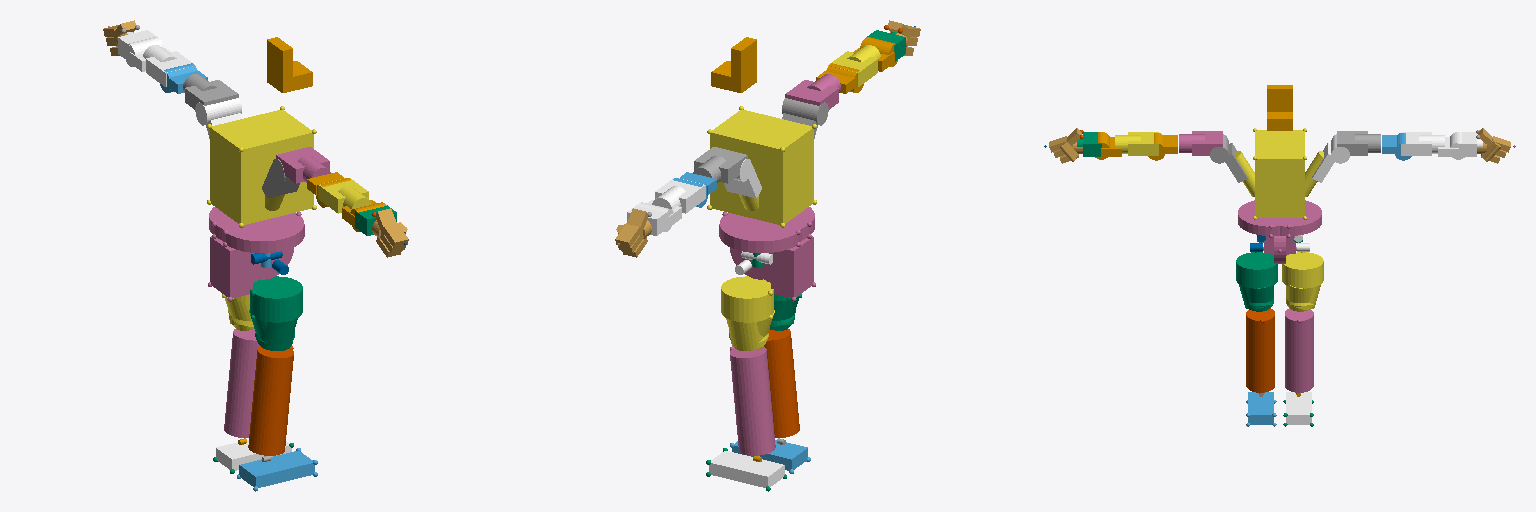
--- What the picture shows (computed from the rendered views, not written in the file) ---
3 views of the same robot in one strip: view 1: azimuth 30°, elevation 25°; view 2: azimuth 150°, elevation 25°; view 3: azimuth 270°, elevation 25° (orthographic).
Robot: atlas — 33 links, 32 joints (28 revolute, 4 fixed); root link pelvis; default pose: all joints at 0.
Links seen in each view (by area): view 1: utorso, pelvis, r_lleg, r_uleg, l_lleg, r_foot, head, r_scap, l_scap, r_larm, right_palm, l_larm (+6 smaller); view 2: utorso, pelvis, l_lleg, l_uleg, r_lleg, l_foot, head, l_scap, r_scap, l_larm, left_palm, r_larm (+6 smaller); view 3: utorso, pelvis, l_lleg, r_lleg, l_uleg, r_uleg, head, l_scap, r_scap, l_larm, r_larm, l_foot (+5 smaller).
Link boxes in pixels (x1,y1,x2,y2): utorso: [207, 106, 316, 227]; pelvis: [208, 207, 304, 301]; r_lleg: [248, 346, 293, 455]; r_uleg: [249, 276, 302, 350]; l_lleg: [224, 329, 259, 437]; r_foot: [237, 448, 317, 491]; head: [267, 37, 312, 92]; r_scap: [276, 147, 330, 183]; l_scap: [183, 74, 238, 109]; r_larm: [318, 178, 371, 213]; right_palm: [372, 208, 408, 257]; l_larm: [143, 45, 195, 86]; utorso: [707, 106, 816, 227]; pelvis: [719, 207, 815, 301]; l_lleg: [730, 346, 775, 455]; l_uleg: [721, 276, 774, 350]; r_lleg: [764, 329, 799, 437]; l_foot: [706, 448, 786, 491]; head: [711, 37, 756, 92]; l_scap: [693, 147, 747, 183]; r_scap: [785, 74, 840, 109]; l_larm: [652, 178, 705, 213]; left_palm: [615, 208, 651, 257]; r_larm: [828, 45, 880, 86]; utorso: [1236, 128, 1323, 219]; pelvis: [1238, 200, 1321, 263]; l_lleg: [1285, 308, 1313, 392]; r_lleg: [1246, 308, 1274, 392]; l_uleg: [1282, 252, 1323, 311]; r_uleg: [1236, 252, 1277, 311]; head: [1267, 85, 1292, 130]; l_scap: [1337, 131, 1380, 155]; r_scap: [1179, 131, 1222, 155]; l_larm: [1401, 132, 1444, 155]; r_larm: [1115, 132, 1158, 155]; l_foot: [1283, 392, 1313, 426].
Bounding box of the posed robot: 0.3795 × 2.26 × 1.76 m (x, y, z).
Geometry: primitives only (box / cylinder / sphere), no mesh files.

URDF robot description (atlas):
<?xml version="1.0" ?>
<!-- =================================================================================== -->
<!-- |    This document was autogenerated by xacro from atlas_simple_visuals.urdf.xacro | -->
<!-- |    EDITING THIS FILE BY HAND IS NOT RECOMMENDED                                 | -->
<!-- =================================================================================== -->
<robot name="atlas" xmlns:xacro="http://www.ros.org/wiki/xacro">
  <link name="l_clav">
    <inertial>
      <mass value="2.369"/>
      <origin rpy="0 -0 0" xyz="0.014 0.058 0.029"/>
      <inertia ixx="0.004" ixy="0.001" ixz="0" iyy="0.006" iyz="0" izz="0.007"/>
    </inertial>
    <collision group="default">
      <origin rpy="0 1.5707963267949 0" xyz="0 0.0697 0.0261"/>
      <geometry>
        <cylinder length="0.1525" radius="0.045"/>
      </geometry>
    </collision>
    <visual>
      <origin rpy="0 1.5707963267949 0" xyz="0 0.0697 0.0261"/>
      <geometry>
        <cylinder length="0.1525" radius="0.045"/>
      </geometry>
      <material name="vis">
        <color rgba="1 1 1 1"/>
      </material>
    </visual>
    <collision group="default">
      <origin rpy="1.0472 0 0" xyz="-0.005 -0.0074 -0.0538"/>
      <geometry>
        <box size="0.13 0.15 0.05"/>
      </geometry>
    </collision>
    <visual>
      <origin rpy="1.0472 0 0" xyz="-0.005 -0.0074 -0.0538"/>
      <geometry>
        <box size="0.13 0.15 0.05"/>
      </geometry>
      <material name="vis">
        <color rgba="1 1 1 1"/>
      </material>
    </visual>
  </link>
  <link name="l_farm">
    <inertial>
      <mass value="0.981"/>
      <origin rpy="0 -0 0" xyz="0 0.041 0"/>
      <inertia ixx="0.003" ixy="0" ixz="0" iyy="0.001" iyz="0" izz="0.003"/>
    </inertial>
    <collision group="default">
      <origin rpy="0 1.5708 0" xyz="0.0 0.065 0.004"/>
      <geometry>
        <cylinder length="0.125" radius="0.045"/>
      </geometry>
    </collision>
    <visual>
      <origin rpy="0 1.5708 0" xyz="0.0 0.065 0.004"/>
      <geometry>
        <cylinder length="0.125" radius="0.045"/>
      </geometry>
      <material name="vis">
        <color rgba="1 1 1 1"/>
      </material>
    </visual>
    <collision group="default">
      <origin rpy="0 0 0" xyz="0.001 0.015 -0.002"/>
      <geometry>
        <box size="0.135 0.1 0.045"/>
      </geometry>
    </collision>
    <visual>
      <origin rpy="0 0 0" xyz="0.001 0.015 -0.002"/>
      <geometry>
        <box size="0.135 0.1 0.045"/>
      </geometry>
      <material name="vis">
        <color rgba="1 1 1 1"/>
      </material>
    </visual>
  </link>
  <link name="l_foot">
    <inertial>
      <mass value="0.867"/>
      <origin rpy="0 -0 0" xyz="0.027 0 -0.067"/>
      <inertia ixx="0.002" ixy="0" ixz="0" iyy="0.00350421" iyz="0" izz="0.00400651"/>
    </inertial>
    <collision group="heel">
      <origin rpy="0 0 0" xyz="-0.082 0.0624435 -0.081119"/>
      <geometry>
        <sphere radius="0"/>
      </geometry>
    </collision>
    <visual>
      <origin rpy="0 0 0" xyz="-0.082 0.0624435 -0.081119"/>
      <geometry>
        <sphere radius="0.01"/>
      </geometry>
    </visual>
    <collision group="heel">
      <origin rpy="0 0 0" xyz="-0.082 -0.0624435 -0.081119"/>
      <geometry>
        <sphere radius="0"/>
      </geometry>
    </collision>
    <visual>
      <origin rpy="0 0 0" xyz="-0.082 -0.0624435 -0.081119"/>
      <geometry>
        <sphere radius="0.01"/>
      </geometry>
    </visual>
    <collision group="toe">
      <origin rpy="0 0 0" xyz="0.178 0.0624435 -0.081119"/>
      <geometry>
        <sphere radius="0"/>
      </geometry>
    </collision>
    <visual>
      <origin rpy="0 0 0" xyz="0.178 0.0624435 -0.081119"/>
      <geometry>
        <sphere radius="0.01"/>
      </geometry>
    </visual>
    <collision group="toe">
      <origin rpy="0 0 0" xyz="0.178 -0.0624435 -0.081119"/>
      <geometry>
        <sphere radius="0"/>
      </geometry>
    </collision>
    <visual>
      <origin rpy="0 0 0" xyz="0.178 -0.0624435 -0.081119"/>
      <geometry>
        <sphere radius="0.01"/>
      </geometry>
    </visual>
    <collision group="nail">
      <origin rpy="0 0 0" xyz="0.178 0.0624435 -0.081119"/>
      <geometry>
        <sphere radius="0"/>
      </geometry>
    </collision>
    <visual>
      <origin rpy="0 0 0" xyz="0.178 0.0624435 -0.081119"/>
      <geometry>
        <sphere radius="0.01"/>
      </geometry>
    </visual>
    <collision group="nail">
      <origin rpy="0 0 0" xyz="0.178 -0.0624435 -0.081119"/>
      <geometry>
        <sphere radius="0"/>
      </geometry>
    </collision>
    <visual>
      <origin rpy="0 0 0" xyz="0.178 -0.0624435 -0.081119"/>
      <geometry>
        <sphere radius="0.01"/>
      </geometry>
    </visual>
    <collision group="nail">
      <origin rpy="0 0 0" xyz="0.178 0.0624435 -0.031119"/>
      <geometry>
        <sphere radius="0"/>
      </geometry>
    </collision>
    <visual>
      <origin rpy="0 0 0" xyz="0.178 0.0624435 -0.031119"/>
      <geometry>
        <sphere radius="0.01"/>
      </geometry>
    </visual>
    <collision group="nail">
      <origin rpy="0 0 0" xyz="0.178 -0.0624435 -0.031119"/>
      <geometry>
        <sphere radius="0"/>
      </geometry>
    </collision>
    <visual>
      <origin rpy="0 0 0" xyz="0.178 -0.0624435 -0.031119"/>
      <geometry>
        <sphere radius="0.01"/>
      </geometry>
    </visual>
    <collision group="default">
      <origin rpy="0 0 0" xyz="0.048 0 -0.056119"/>
      <geometry>
        <box size="0.26 0.124887 0.05"/>
      </geometry>
    </collision>
    <visual>
      <origin rpy="0 0 0" xyz="0.048 0 -0.056119"/>
      <geometry>
        <box size="0.26 0.124887 0.05"/>
      </geometry>
      <material name="vis">
        <color rgba="1 1 1 1"/>
      </material>
    </visual>
  </link>
  <link name="l_hand">
    <inertial>
      <mass value="2.263"/>
      <origin rpy="0 -0 0" xyz="0 0.093 0"/>
      <inertia ixx="0.01" ixy="0" ixz="0" iyy="0.002" iyz="0" izz="0.01"/>
    </inertial>
    <collision group="default">
      <origin rpy="0 0 0" xyz="0.0 0.115 0.0"/>
      <geometry>
        <sphere radius="0"/>
      </geometry>
    </collision>
    <visual>
      <origin rpy="0 0 0" xyz="0.0 0.115 0.0"/>
      <geometry>
        <sphere radius="0.01"/>
      </geometry>
    </visual>
    <collision group="default">
      <origin rpy="1.5707963267949 0 0" xyz="0.001 0.1 0.01"/>
      <geometry>
        <cylinder length="0.05" radius="0.03"/>
      </geometry>
    </collision>
    <visual>
      <origin rpy="1.5707963267949 0 0" xyz="0.001 0.1 0.01"/>
      <geometry>
        <cylinder length="0.05" radius="0.03"/>
      </geometry>
      <material name="vis">
        <color rgba="1 1 1 1"/>
      </material>
    </visual>
    <collision group="default">
      <origin rpy="0 0 0" xyz="0.001 0.05 0.01"/>
      <geometry>
        <box size="0.13 0.09 0.07"/>
      </geometry>
    </collision>
    <visual>
      <origin rpy="0 0 0" xyz="0.001 0.05 0.01"/>
      <geometry>
        <box size="0.13 0.09 0.07"/>
      </geometry>
      <material name="vis">
        <color rgba="1 1 1 1"/>
      </material>
    </visual>
  </link>
  <link name="l_larm">
    <inertial>
      <mass value="2.148"/>
      <origin rpy="0 -0 0" xyz="-0.003 0.099 -0.014"/>
      <inertia ixx="0.005" ixy="0" ixz="0" iyy="0.003" iyz="0" izz="0.006"/>
    </inertial>
    <collision group="default">
      <origin rpy="1.5707963267949 0 0" xyz="0.001 0.127 0.00"/>
      <geometry>
        <cylinder length="0.125" radius="0.045"/>
      </geometry>
    </collision>
    <visual>
      <origin rpy="1.5707963267949 0 0" xyz="0.001 0.127 0.00"/>
      <geometry>
        <cylinder length="0.125" radius="0.045"/>
      </geometry>
      <material name="vis">
        <color rgba="1 1 1 1"/>
      </material>
    </visual>
    <collision group="default">
      <origin rpy="0 0 0" xyz="0.001 0.051 0.0"/>
      <geometry>
        <box size="0.135 0.15 0.06"/>
      </geometry>
    </collision>
    <visual>
      <origin rpy="0 0 0" xyz="0.001 0.051 0.0"/>
      <geometry>
        <box size="0.135 0.15 0.06"/>
      </geometry>
      <material name="vis">
        <color rgba="1 1 1 1"/>
      </material>
    </visual>
    <collision group="wrist">
      <origin rpy="0 0 0" xyz="0 0.246 -0.013"/>
      <geometry>
        <sphere radius="0"/>
      </geometry>
    </collision>
    <visual>
      <origin rpy="0 0 0" xyz="0 0.246 -0.013"/>
      <geometry>
        <sphere radius="0.01"/>
      </geometry>
    </visual>
  </link>
  <link name="l_lglut">
    <inertial>
      <mass value="0.803"/>
      <origin rpy="0 -0 0" xyz="0.0133341 0.0170484 -0.0312052"/>
      <inertia ixx="0.0453457" ixy="-2.24344e-05" ixz="2.50508e-06" iyy="0.0174182" iyz="0.000137862" izz="0.0071591"/>
    </inertial>
    <collision group="default">
      <origin rpy="1.5707963267949 0 0" xyz="0.049968 0.022488 -0.0501165"/>
      <geometry>
        <cylinder length="0.060306" radius="0.02009687"/>
      </geometry>
    </collision>
    <visual>
      <origin rpy="1.5707963267949 0 0" xyz="0.049968 0.022488 -0.0501165"/>
      <geometry>
        <cylinder length="0.060306" radius="0.02009687"/>
      </geometry>
      <material name="vis">
        <color rgba="1 1 1 1"/>
      </material>
    </visual>
    <collision group="default">
      <origin rpy="0 1.5707963267949 0" xyz="0 0 0"/>
      <geometry>
        <cylinder length="0.12" radius="0.02"/>
      </geometry>
    </collision>
    <visual>
      <origin rpy="0 1.5707963267949 0" xyz="0 0 0"/>
      <geometry>
        <cylinder length="0.12" radius="0.02"/>
      </geometry>
      <material name="vis">
        <color rgba="1 1 1 1"/>
      </material>
    </visual>
  </link>
  <link name="l_lleg">
    <inertial>
      <mass value="4.367"/>
      <origin rpy="0 -0 0" xyz="0.001 0 -0.187"/>
      <inertia ixx="0.077" ixy="0" ixz="-0.003" iyy="0.076" iyz="0" izz="0.01"/>
    </inertial>
    <visual group="default">
      <origin rpy="0 0.10 0" xyz="0.02 0.00295 -0.18"/>
      <geometry>
        <cylinder length="0.40" radius="0.07"/>
      </geometry>
    </visual>
    <collision group="knee">
      <origin rpy="0 0 0" xyz="0.1096 0.0029 0.012"/>
      <geometry>
        <sphere radius="0"/>
      </geometry>
    </collision>
    <visual>
      <origin rpy="0 0 0" xyz="0.1096 0.0029 0.012"/>
      <geometry>
        <sphere radius="0.01"/>
      </geometry>
    </visual>
    <collision group="default">
      <origin rpy="0 0.10 0" xyz="0.02 0.00295 -0.18"/>
      <geometry>
        <cylinder length="0.40" radius="0.07"/>
      </geometry>
    </collision>
    <collision>
      <origin rpy="0 0 0" xyz="0.049 0.0 -0.05"/>
      <geometry>
        <sphere radius="0"/>
      </geometry>
    </collision>
  </link>
  <link name="l_scap">
    <inertial>
      <mass value="2.707"/>
      <origin rpy="0 -0 0" xyz="-0.002 0.108 0"/>
      <inertia ixx="0.01" ixy="0" ixz="0" iyy="0.005" iyz="0" izz="0.013"/>
    </inertial>
    <visual group="default">
      <origin rpy="1.5707963267949 0 0" xyz="0.001 0.12651 0.01521"/>
      <geometry>
        <cylinder length="0.125" radius="0.045"/>
      </geometry>
    </visual>
    <collision group="default">
      <origin rpy="1.5707963267949 0 0" xyz="0.001 0.12651 0.01521"/>
      <geometry>
        <cylinder length="0.125" radius="0.045"/>
      </geometry>
    </collision>
    <visual group="default">
      <origin rpy="0 0 0" xyz="0.001 0.05 0.016"/>
      <geometry>
        <box size="0.15 0.15 0.06"/>
      </geometry>
    </visual>
  </link>
  <link name="l_talus">
    <inertial>
      <mass value="0.867"/>
      <origin rpy="0 -0 0" xyz="0 0 0"/>
      <inertia ixx="0.001" ixy="0" ixz="0" iyy="0.00350421" iyz="0" izz="0.00400651"/>
    </inertial>
    <visual group="default">
      <origin rpy="0 1.5707963267949 0" xyz="0 0 0"/>
      <geometry>
        <cylinder length="0.029542" radius="0.010181"/>
      </geometry>
    </visual>
    <collision group="default">
      <origin rpy="0 1.5707963267949 0" xyz="0 0 0"/>
      <geometry>
        <cylinder length="0.029542" radius="0.010181"/>
      </geometry>
    </collision>
    <visual group="default">
      <origin rpy="1.5707963267949 0 0" xyz="0 0 0"/>
      <geometry>
        <cylinder length="0.010059" radius="0.010348"/>
      </geometry>
    </visual>
  </link>
  <link name="l_uarm">
    <inertial>
      <mass value="1.881"/>
      <origin rpy="0 -0 0" xyz="0.007 0.114 0.008"/>
      <inertia ixx="0.002" ixy="0" ixz="0" iyy="0.003" iyz="0" izz="0.003"/>
    </inertial>
    <visual group="default">
      <origin rpy="0 1.5708 0" xyz="0.001 0.111 0.0"/>
      <geometry>
        <cylinder length="0.125" radius="0.045"/>
      </geometry>
    </visual>
    <collision group="default">
      <origin rpy="0 1.5708 0" xyz="0.001 0.111 0.0"/>
      <geometry>
        <cylinder length="0.125" radius="0.045"/>
      </geometry>
    </collision>
    <visual group="default">
      <origin rpy="0 1.5707963267949 0" xyz="0.001 0.043 0.01"/>
      <geometry>
        <box size="0.04 0.07 0.13"/>
      </geometry>
    </visual>
  </link>
  <link name="l_uglut">
    <inertial>
      <mass value="1.51622"/>
      <origin rpy="0 -0 0" xyz="0.00529262 -0.00344732 0.00313046"/>
      <inertia ixx="0.0327037" ixy="-3.79607e-08" ixz="-2.79549e-05" iyy="0.0174182" iyz="-3.2735e-08" izz="0.0071591"/>
    </inertial>
    <visual group="default">
      <origin rpy="0 1.5707963267949 0" xyz="0 0 0"/>
      <geometry>
        <cylinder length="0.078396" radius="0.019096"/>
      </geometry>
    </visual>
    <collision group="default">
      <origin rpy="0 1.5707963267949 0" xyz="0 0 0"/>
      <geometry>
        <cylinder length="0.078396" radius="0.019096"/>
      </geometry>
    </collision>
    <visual group="default">
      <origin rpy="0 0 0" xyz="0 0 0"/>
      <geometry>
        <cylinder length="0.080842" radius="0.019841"/>
      </geometry>
    </visual>
  </link>
  <link name="l_uleg">
    <inertial>
      <mass value="7.227"/>
      <origin rpy="0 -0 0" xyz="0 0 -0.21"/>
      <inertia ixx="0.0453457" ixy="0" ixz="0" iyy="0.09" iyz="0" izz="0.0071591"/>
    </inertial>
    <collision group="hamstring">
      <origin rpy="0 0 0" xyz="-0.1179 0.02085 -0.18"/>
      <geometry>
        <sphere radius="0"/>
      </geometry>
    </collision>
    <visual>
      <origin rpy="0 0 0" xyz="-0.1179 0.02085 -0.18"/>
      <geometry>
        <sphere radius="0.01"/>
      </geometry>
    </visual>
    <collision group="hamstring">
      <origin rpy="0 0 0" xyz="-0.1179 0.02085 -0.08"/>
      <geometry>
        <sphere radius="0"/>
      </geometry>
    </collision>
    <visual>
      <origin rpy="0 0 0" xyz="-0.1179 0.02085 -0.08"/>
      <geometry>
        <sphere radius="0.01"/>
      </geometry>
    </visual>
    <visual group="default">
      <origin rpy="0 0 0" xyz="-0.0179 0.02085 -0.13"/>
      <geometry>
        <cylinder length="0.10" radius="0.1"/>
      </geometry>
    </visual>
    <collision group="default">
      <origin rpy="0 0 0" xyz="-0.0179 0.02085 -0.13"/>
      <geometry>
        <cylinder length="0.10" radius="0.1"/>
      </geometry>
    </collision>
    <visual group="default">
      <origin rpy="0 -0.3 0" xyz="-0.03 0.01 -0.23"/>
      <geometry>
        <cylinder length="0.15" radius="0.07"/>
      </geometry>
    </visual>
    <collision group="default">
      <origin rpy="0 -0.3 0" xyz="-0.03 0.01 -0.23"/>
      <geometry>
        <cylinder length="0.15" radius="0.07"/>
      </geometry>
    </collision>
    <visual group="default">
      <origin rpy="0 0.3 0" xyz="-0.005 0.01 -0.23"/>
      <geometry>
        <cylinder length="0.15" radius="0.07"/>
      </geometry>
    </visual>
    <collision group="default">
      <origin rpy="0 0.3 0" xyz="-0.005 0.01 -0.23"/>
      <geometry>
        <cylinder length="0.15" radius="0.07"/>
      </geometry>
    </collision>
    <visual group="default">
      <origin rpy="-0.25 0 0" xyz="-0.02 0.03 -0.23"/>
      <geometry>
        <cylinder length="0.15" radius="0.07"/>
      </geometry>
    </visual>
    <collision group="default">
      <origin rpy="-0.25 0 0" xyz="-0.02 0.03 -0.23"/>
      <geometry>
        <cylinder length="0.15" radius="0.07"/>
      </geometry>
    </collision>
  </link>
  <link name="ltorso">
    <inertial>
      <mass value="1.62729"/>
      <origin rpy="0 -0 0" xyz="-0.0112984 -3.15366e-06 0.0746835"/>
      <inertia ixx="0.0646646" ixy="-5.04491e-08" ixz="-0.000342157" iyy="0.050298" iyz="4.87119e-07" izz="0.10973"/>
    </inertial>
  </link>
  <link name="mtorso">
    <inertial>
      <mass value="3.8068"/>
      <origin rpy="0 -0 0" xyz="-0.00816266 -0.0131245 0.0305974"/>
      <inertia ixx="0.1975" ixy="-6.10764e-05" ixz="3.94009e-05" iyy="0.544742" iyz="5.27463e-05" izz="0.10973"/>
    </inertial>
    <visual group="default">
      <origin rpy="1.5707963267949 0 0" xyz="0 0 0"/>
      <geometry>
        <cylinder length="0.03" radius="0.017"/>
      </geometry>
    </visual>
    <collision group="default">
      <origin rpy="1.5707963267949 0 0" xyz="0 0 0"/>
      <geometry>
        <cylinder length="0.03" radius="0.017"/>
      </geometry>
    </collision>
    <visual group="default">
      <origin rpy="0 1.5707963267949 0" xyz="0.0285 0 0.05"/>
      <geometry>
        <cylinder length="0.02" radius="0.015"/>
      </geometry>
    </visual>
    <collision group="default">
      <origin rpy="0 1.5707963267949 0" xyz="0.0285 0 0.05"/>
      <geometry>
        <cylinder length="0.02" radius="0.015"/>
      </geometry>
    </collision>
    <visual group="default">
      <origin rpy="0 1.5707963267949 0" xyz="-0.0285 0 0.05"/>
      <geometry>
        <cylinder length="0.02" radius="0.015"/>
      </geometry>
    </visual>
    <collision group="default">
      <origin rpy="0 1.5707963267949 0" xyz="-0.0285 0 0.05"/>
      <geometry>
        <cylinder length="0.02" radius="0.015"/>
      </geometry>
    </collision>
  </link>
  <link name="pelvis">
    <inertial>
      <mass value="12.54638"/>
      <origin rpy="0 -0 0" xyz="0.0111 0 0.0271"/>
      <inertia ixx="0.0327037" ixy="0.0008" ixz="-0.0007" iyy="0.0174182" iyz="-0.0005" izz="0.118059"/>
    </inertial>
    <collision group="front">
      <origin rpy="0 0 0" xyz="0.17 0.042 0.115"/>
      <geometry>
        <sphere radius="0"/>
      </geometry>
    </collision>
    <visual>
      <origin rpy="0 0 0" xyz="0.17 0.042 0.115"/>
      <geometry>
        <sphere radius="0.01"/>
      </geometry>
    </visual>
    <collision group="front">
      <origin rpy="0 0 0" xyz="0.17 -0.042 0.115"/>
      <geometry>
        <sphere radius="0"/>
      </geometry>
    </collision>
    <visual>
      <origin rpy="0 0 0" xyz="0.17 -0.042 0.115"/>
      <geometry>
        <sphere radius="0.01"/>
      </geometry>
    </visual>
    <collision group="front">
      <origin rpy="0 0 0" xyz="0.17 0.042 0.065"/>
      <geometry>
        <sphere radius="0"/>
      </geometry>
    </collision>
    <visual>
      <origin rpy="0 0 0" xyz="0.17 0.042 0.065"/>
      <geometry>
        <sphere radius="0.01"/>
      </geometry>
    </visual>
    <collision group="front">
      <origin rpy="0 0 0" xyz="0.17 -0.042 0.065"/>
      <geometry>
        <sphere radius="0"/>
      </geometry>
    </collision>
    <visual>
      <origin rpy="0 0 0" xyz="0.17 -0.042 0.065"/>
      <geometry>
        <sphere radius="0.01"/>
      </geometry>
    </visual>
    <collision group="back">
      <origin rpy="0 0 0" xyz="-0.15 0.042 0.115"/>
      <geometry>
        <sphere radius="0"/>
      </geometry>
    </collision>
    <visual>
      <origin rpy="0 0 0" xyz="-0.15 0.042 0.115"/>
      <geometry>
        <sphere radius="0.01"/>
      </geometry>
    </visual>
    <collision group="back">
      <origin rpy="0 0 0" xyz="-0.15 -0.042 0.115"/>
      <geometry>
        <sphere radius="0"/>
      </geometry>
    </collision>
    <visual>
      <origin rpy="0 0 0" xyz="-0.15 -0.042 0.115"/>
      <geometry>
        <sphere radius="0.01"/>
      </geometry>
    </visual>
    <collision group="back">
      <origin rpy="0 0 0" xyz="-0.15 0.042 0.065"/>
      <geometry>
        <sphere radius="0"/>
      </geometry>
    </collision>
    <visual>
      <origin rpy="0 0 0" xyz="-0.15 0.042 0.065"/>
      <geometry>
        <sphere radius="0.01"/>
      </geometry>
    </visual>
    <collision group="back">
      <origin rpy="0 0 0" xyz="-0.15 -0.042 0.065"/>
      <geometry>
        <sphere radius="0"/>
      </geometry>
    </collision>
    <visual>
      <origin rpy="0 0 0" xyz="-0.15 -0.042 0.065"/>
      <geometry>
        <sphere radius="0.01"/>
      </geometry>
    </visual>
    <collision group="front">
      <origin rpy="0 0 0" xyz="0.156 0.0 -0.02"/>
      <geometry>
        <sphere radius="0"/>
      </geometry>
    </collision>
    <visual>
      <origin rpy="0 0 0" xyz="0.156 0.0 -0.02"/>
      <geometry>
        <sphere radius="0.01"/>
      </geometry>
    </visual>
    <collision group="butt">
      <origin rpy="0 0 0" xyz="-0.15 0.075 -0.15"/>
      <geometry>
        <sphere radius="0"/>
      </geometry>
    </collision>
    <visual>
      <origin rpy="0 0 0" xyz="-0.15 0.075 -0.15"/>
      <geometry>
        <sphere radius="0.01"/>
      </geometry>
    </visual>
    <collision group="butt">
      <origin rpy="0 0 0" xyz="-0.15 -0.075 -0.15"/>
      <geometry>
        <sphere radius="0"/>
      </geometry>
    </collision>
    <visual>
      <origin rpy="0 0 0" xyz="-0.15 -0.075 -0.15"/>
      <geometry>
        <sphere radius="0.01"/>
      </geometry>
    </visual>
    <collision group="butt_left">
      <origin rpy="0 0 0" xyz="-0.15 0.075 -0.15"/>
      <geometry>
        <sphere radius="0"/>
      </geometry>
    </collision>
    <visual>
      <origin rpy="0 0 0" xyz="-0.15 0.075 -0.15"/>
      <geometry>
        <sphere radius="0.01"/>
      </geometry>
    </visual>
    <collision group="butt_left">
      <origin rpy="0 0 0" xyz="-0.05 0.075 -0.15"/>
      <geometry>
        <sphere radius="0"/>
      </geometry>
    </collision>
    <visual>
      <origin rpy="0 0 0" xyz="-0.05 0.075 -0.15"/>
      <geometry>
        <sphere radius="0.01"/>
      </geometry>
    </visual>
    <collision group="butt_right">
      <origin rpy="0 0 0" xyz="-0.15 -0.075 -0.15"/>
      <geometry>
        <sphere radius="0"/>
      </geometry>
    </collision>
    <visual>
      <origin rpy="0 0 0" xyz="-0.15 -0.075 -0.15"/>
      <geometry>
        <sphere radius="0.01"/>
      </geometry>
    </visual>
    <collision group="butt_right">
      <origin rpy="0 0 0" xyz="-0.05 -0.075 -0.15"/>
      <geometry>
        <sphere radius="0"/>
      </geometry>
    </collision>
    <visual>
      <origin rpy="0 0 0" xyz="-0.05 -0.075 -0.15"/>
      <geometry>
        <sphere radius="0.01"/>
      </geometry>
    </visual>
    <visual group="default">
      <origin rpy="0 0 0" xyz="-0.1 0 -0.05"/>
      <geometry>
        <box size="0.1 0.15 0.2"/>
      </geometry>
    </visual>
    <collision group="default">
      <origin rpy="0 0 0" xyz="-0.1 0 -0.05"/>
      <geometry>
        <box size="0.1 0.15 0.2"/>
      </geometry>
    </collision>
    <visual group="default">
      <origin rpy="1.5707963267949 0 0" xyz="0.046 0.0 -0.02"/>
      <geometry>
        <cylinder length="0.06" radius="0.11"/>
      </geometry>
    </visual>
    <collision group="default">
      <origin rpy="1.5707963267949 0 0" xyz="0.046 0.0 -0.02"/>
      <geometry>
        <cylinder length="0.06" radius="0.11"/>
      </geometry>
    </collision>
    <visual group="default">
      <origin rpy="1.5707963267949 0 0" xyz="-0.03 0.0 -0.02"/>
      <geometry>
        <cylinder length="0.06" radius="0.11"/>
      </geometry>
    </visual>
    <collision group="default">
      <origin rpy="1.5707963267949 0 0" xyz="-0.03 0.0 -0.02"/>
      <geometry>
        <cylinder length="0.06" radius="0.11"/>
      </geometry>
    </collision>
    <visual group="default">
      <origin rpy="0 0 0" xyz="0.01 0.042 0.09"/>
      <geometry>
        <cylinder length="0.05" radius="0.16"/>
      </geometry>
    </visual>
    <collision group="default">
      <origin rpy="0 0 0" xyz="0.01 0.042 0.09"/>
      <geometry>
        <cylinder length="0.05" radius="0.16"/>
      </geometry>
    </collision>
    <visual group="default">
      <origin rpy="0 0 0" xyz="0.01 -0.042 0.09"/>
      <geometry>
        <cylinder length="0.05" radius="0.16"/>
      </geometry>
    </visual>
    <collision group="default">
      <origin rpy="0 0 0" xyz="0.01 -0.042 0.09"/>
      <geometry>
        <cylinder length="0.05" radius="0.16"/>
      </geometry>
    </collision>
    <visual group="default">
      <origin rpy="0 0 0" xyz="-0.1 0 -0.05"/>
      <geometry>
        <box size="0.1 0.15 0.2"/>
      </geometry>
    </visual>
    <collision group="default">
      <origin rpy="0 0 0" xyz="-0.1 0 -0.05"/>
      <geometry>
        <box size="0.1 0.15 0.2"/>
      </geometry>
    </collision>
  </link>
  <link name="r_clav">
    <inertial>
      <mass value="2.369"/>
      <origin rpy="0 -0 0" xyz="0.014 -0.058 0.029"/>
      <inertia ixx="0.004" ixy="-0.001" ixz="0" iyy="0.006" iyz="0" izz="0.007"/>
    </inertial>
    <visual group="default">
      <origin rpy="0 1.5707963267949 0" xyz="0 -0.0697 0.0261"/>
      <geometry>
        <cylinder length="0.1525" radius="0.045"/>
      </geometry>
    </visual>
    <collision group="default">
      <origin rpy="0 1.5707963267949 0" xyz="0 -0.0697 0.0261"/>
      <geometry>
        <cylinder length="0.1525" radius="0.045"/>
      </geometry>
    </collision>
    <visual group="default">
      <origin rpy="-1.0472 0 0" xyz="-0.005 0.0074 -0.0538"/>
      <geometry>
        <box size="0.13 0.15 0.05"/>
      </geometry>
    </visual>
    <collision group="default">
      <origin rpy="-1.0472 0 0" xyz="-0.005 0.0074 -0.0538"/>
      <geometry>
        <box size="0.13 0.15 0.05"/>
      </geometry>
    </collision>
  </link>
  <link name="r_farm">
    <inertial>
      <mass value="0.981"/>
      <origin rpy="0 -0 0" xyz="0 -0.041 0"/>
      <inertia ixx="0.003" ixy="0" ixz="0" iyy="0.001" iyz="0" izz="0.003"/>
    </inertial>
    <visual group="default">
      <origin rpy="0 1.5708 0" xyz="0.0 -0.065 0.004"/>
      <geometry>
        <cylinder length="0.125" radius="0.045"/>
      </geometry>
    </visual>
    <collision group="default">
      <origin rpy="0 1.5708 0" xyz="0.0 -0.065 0.004"/>
      <geometry>
        <cylinder length="0.125" radius="0.045"/>
      </geometry>
    </collision>
    <visual group="default">
      <origin rpy="0 0 0" xyz="0.001 -0.015 -0.002"/>
      <geometry>
        <box size="0.135 0.1 0.045"/>
      </geometry>
    </visual>
    <collision group="default">
      <origin rpy="0 0 0" xyz="0.001 -0.015 -0.002"/>
      <geometry>
        <box size="0.135 0.1 0.045"/>
      </geometry>
    </collision>
  </link>
  <link name="r_foot">
    <inertial>
      <mass value="0.867"/>
      <origin rpy="0 -0 0" xyz="0.027 0 -0.067"/>
      <inertia ixx="0.002" ixy="0" ixz="0" iyy="0.00350421" iyz="0" izz="0.00400651"/>
    </inertial>
    <collision group="heel">
      <origin rpy="0 0 0" xyz="-0.082 0.0624435 -0.081119"/>
      <geometry>
        <sphere radius="0"/>
      </geometry>
    </collision>
    <visual>
      <origin rpy="0 0 0" xyz="-0.082 0.0624435 -0.081119"/>
      <geometry>
        <sphere radius="0.01"/>
      </geometry>
    </visual>
    <collision group="heel">
      <origin rpy="0 0 0" xyz="-0.082 -0.0624435 -0.081119"/>
      <geometry>
        <sphere radius="0"/>
      </geometry>
    </collision>
    <visual>
      <origin rpy="0 0 0" xyz="-0.082 -0.0624435 -0.081119"/>
      <geometry>
        <sphere radius="0.01"/>
      </geometry>
    </visual>
    <collision group="toe">
      <origin rpy="0 0 0" xyz="0.178 0.0624435 -0.081119"/>
      <geometry>
        <sphere radius="0"/>
      </geometry>
    </collision>
    <visual>
      <origin rpy="0 0 0" xyz="0.178 0.0624435 -0.081119"/>
      <geometry>
        <sphere radius="0.01"/>
      </geometry>
    </visual>
    <collision group="toe">
      <origin rpy="0 0 0" xyz="0.178 -0.0624435 -0.081119"/>
      <geometry>
        <sphere radius="0"/>
      </geometry>
    </collision>
    <visual>
      <origin rpy="0 0 0" xyz="0.178 -0.0624435 -0.081119"/>
      <geometry>
        <sphere radius="0.01"/>
      </geometry>
    </visual>
    <collision group="nail">
      <origin rpy="0 0 0" xyz="0.178 0.0624435 -0.081119"/>
      <geometry>
        <sphere radius="0"/>
      </geometry>
    </collision>
    <visual>
      <origin rpy="0 0 0" xyz="0.178 0.0624435 -0.081119"/>
      <geometry>
        <sphere radius="0.01"/>
      </geometry>
    </visual>
    <collision group="nail">
      <origin rpy="0 0 0" xyz="0.178 -0.0624435 -0.081119"/>
      <geometry>
        <sphere radius="0"/>
      </geometry>
    </collision>
    <visual>
      <origin rpy="0 0 0" xyz="0.178 -0.0624435 -0.081119"/>
      <geometry>
        <sphere radius="0.01"/>
      </geometry>
    </visual>
    <collision group="nail">
      <origin rpy="0 0 0" xyz="0.178 0.0624435 -0.031119"/>
      <geometry>
        <sphere radius="0"/>
      </geometry>
    </collision>
    <visual>
      <origin rpy="0 0 0" xyz="0.178 0.0624435 -0.031119"/>
      <geometry>
        <sphere radius="0.01"/>
      </geometry>
    </visual>
    <collision group="nail">
      <origin rpy="0 0 0" xyz="0.178 -0.0624435 -0.031119"/>
      <geometry>
        <sphere radius="0"/>
      </geometry>
    </collision>
    <visual>
      <origin rpy="0 0 0" xyz="0.178 -0.0624435 -0.031119"/>
      <geometry>
        <sphere radius="0.01"/>
      </geometry>
    </visual>
    <visual group="default">
      <origin rpy="0 0 0" xyz="0.048 0 -0.056119"/>
      <geometry>
        <box size="0.26 0.124887 0.05"/>
      </geometry>
    </visual>
    <collision group="default">
      <origin rpy="0 0 0" xyz="0.048 0 -0.056119"/>
      <geometry>
        <box size="0.26 0.124887 0.05"/>
      </geometry>
    </collision>
  </link>
  <link name="r_hand">
    <inertial>
      <mass value="2.263"/>
      <origin rpy="0 -0 0" xyz="0 -0.093 0"/>
      <inertia ixx="0.01" ixy="0" ixz="0" iyy="0.002" iyz="0" izz="0.01"/>
    </inertial>
    <collision group="palm">
      <origin rpy="0 0 0" xyz="0.0 -0.115 0.0"/>
      <geometry>
        <sphere radius="0"/>
      </geometry>
    </collision>
    <visual>
      <origin rpy="0 0 0" xyz="0.0 -0.115 0.0"/>
      <geometry>
        <sphere radius="0.01"/>
      </geometry>
    </visual>
    <visual group="default">
      <origin rpy="1.5707963267949 0 0" xyz="0.001 -0.1 0.01"/>
      <geometry>
        <cylinder length="0.05" radius="0.03"/>
      </geometry>
    </visual>
    <collision group="default">
      <origin rpy="1.5707963267949 0 0" xyz="0.001 -0.1 0.01"/>
      <geometry>
        <cylinder length="0.05" radius="0.03"/>
      </geometry>
    </collision>
    <visual group="default">
      <origin rpy="0 0 0" xyz="0.001 -0.05 0.01"/>
      <geometry>
        <box size="0.13 0.09 0.07"/>
      </geometry>
    </visual>
    <collision group="default">
      <origin rpy="0 0 0" xyz="0.001 -0.05 0.01"/>
      <geometry>
        <box size="0.13 0.09 0.07"/>
      </geometry>
    </collision>
    <collision>
      <origin rpy="0 0 0" xyz="0.0 -0.115 0.0"/>
      <geometry>
        <sphere radius="0"/>
      </geometry>
    </collision>
  </link>
  <link name="r_larm">
    <inertial>
      <mass value="2.148"/>
      <origin rpy="0 -0 0" xyz="-0.003 -0.099 -0.014"/>
      <inertia ixx="0.005" ixy="0" ixz="0" iyy="0.003" iyz="0" izz="0.006"/>
    </inertial>
    <collision group="elbow">
      <origin rpy="0 0 0" xyz="0 0 0"/>
      <geometry>
        <sphere radius="0"/>
      </geometry>
    </collision>
    <visual group="default">
      <origin rpy="1.5707963267949 0 0" xyz="0.001 -0.127 0.00"/>
      <geometry>
        <cylinder length="0.125" radius="0.045"/>
      </geometry>
    </visual>
    <collision group="default">
      <origin rpy="1.5707963267949 0 0" xyz="0.001 -0.127 0.00"/>
      <geometry>
        <cylinder length="0.125" radius="0.045"/>
      </geometry>
    </collision>
    <visual group="default">
      <origin rpy="0 0 0" xyz="0.001 -0.051 0.0"/>
      <geometry>
        <box size="0.135 0.15 0.06"/>
      </geometry>
    </visual>
    <collision group="default">
      <origin rpy="0 0 0" xyz="0.001 -0.051 0.0"/>
      <geometry>
        <box size="0.135 0.15 0.06"/>
      </geometry>
    </collision>
    <collision group="wrist">
      <origin rpy="0 0 0" xyz="0 -0.246 -0.013"/>
      <geometry>
        <sphere radius="0"/>
      </geometry>
    </collision>
    <visual>
      <origin rpy="0 0 0" xyz="0 -0.246 -0.013"/>
      <geometry>
        <sphere radius="0.01"/>
      </geometry>
    </visual>
  </link>
  <link name="r_lglut">
    <inertial>
      <mass value="0.803"/>
      <origin rpy="0 -0 0" xyz="0.0133341 -0.0170484 -0.0312052"/>
      <inertia ixx="0.0453457" ixy="2.24344e-05" ixz="2.50508e-06" iyy="0.0174182" iyz="-0.000137862" izz="0.0071591"/>
    </inertial>
    <visual group="default">
      <origin rpy="1.5707963267949 0 0" xyz="0.049968 -0.022488 -0.0501165"/>
      <geometry>
        <cylinder length="0.060306" radius="0.02009687"/>
      </geometry>
    </visual>
    <collision group="default">
      <origin rpy="1.5707963267949 0 0" xyz="0.049968 -0.022488 -0.0501165"/>
      <geometry>
        <cylinder length="0.060306" radius="0.02009687"/>
      </geometry>
    </collision>
    <visual group="default">
      <origin rpy="0 1.5707963267949 0" xyz="0 0 0"/>
      <geometry>
        <cylinder length="0.12" radius="0.02"/>
      </geometry>
    </visual>
    <collision group="default">
      <origin rpy="0 1.5707963267949 0" xyz="0 0 0"/>
      <geometry>
        <cylinder length="0.12" radius="0.02"/>
      </geometry>
    </collision>
  </link>
  <link name="r_lleg">
    <inertial>
      <mass value="4.367"/>
      <origin rpy="0 -0 0" xyz="0.001 0 -0.187"/>
      <inertia ixx="0.077" ixy="-0" ixz="-0.003" iyy="0.076" iyz="-0" izz="0.01"/>
    </inertial>
    <visual group="default">
      <origin rpy="0 0.10 0" xyz="0.02 -0.00295 -0.18"/>
      <geometry>
        <cylinder length="0.40" radius="0.07"/>
      </geometry>
    </visual>
    <collision group="default">
      <origin rpy="0 0.10 0" xyz="0.02 -0.00295 -0.18"/>
      <geometry>
        <cylinder length="0.40" radius="0.07"/>
      </geometry>
    </collision>
    <collision>
      <origin rpy="0 0 0" xyz="0.049 0.0 -0.05"/>
      <geometry>
        <sphere radius="0"/>
      </geometry>
    </collision>
    <collision group="knee">
      <origin rpy="0 0 0" xyz="0.1096 0.0029 0.012"/>
      <geometry>
        <sphere radius="0"/>
      </geometry>
    </collision>
    <visual>
      <origin rpy="0 0 0" xyz="0.1096 0.0029 0.012"/>
      <geometry>
        <sphere radius="0.01"/>
      </geometry>
    </visual>
  </link>
  <link name="r_scap">
    <inertial>
      <mass value="2.707"/>
      <origin rpy="0 -0 0" xyz="-0.002 -0.108 0"/>
      <inertia ixx="0.01" ixy="0" ixz="0" iyy="0.005" iyz="0" izz="0.013"/>
    </inertial>
    <collision group="shoulder">
      <origin rpy="0 0 0" xyz="0.001 -0.12651 0.01521"/>
      <geometry>
        <sphere radius="0"/>
      </geometry>
    </collision>
    <visual group="default">
      <origin rpy="1.5707963267949 0 0" xyz="0.001 -0.12651 0.01521"/>
      <geometry>
        <cylinder length="0.125" radius="0.045"/>
      </geometry>
    </visual>
    <collision group="default">
      <origin rpy="1.5707963267949 0 0" xyz="0.001 -0.12651 0.01521"/>
      <geometry>
        <cylinder length="0.125" radius="0.045"/>
      </geometry>
    </collision>
    <visual group="default">
      <origin rpy="0 0 0" xyz="0.001 -0.05 0.016"/>
      <geometry>
        <box size="0.15 0.15 0.06"/>
      </geometry>
    </visual>
    <collision group="default">
      <origin rpy="0 0 0" xyz="0.001 -0.05 0.016"/>
      <geometry>
        <box size="0.15 0.15 0.06"/>
      </geometry>
    </collision>
  </link>
  <link name="r_talus">
    <inertial>
      <mass value="0.867"/>
      <origin rpy="0 -0 0" xyz="0 0 0"/>
      <inertia ixx="0.001" ixy="0" ixz="0" iyy="0.00350421" iyz="0" izz="0.00400651"/>
    </inertial>
    <visual group="default">
      <origin rpy="0 1.5707963267949 0" xyz="0 0 0"/>
      <geometry>
        <cylinder length="0.029542" radius="0.010181"/>
      </geometry>
    </visual>
    <collision group="default">
      <origin rpy="0 1.5707963267949 0" xyz="0 0 0"/>
      <geometry>
        <cylinder length="0.029542" radius="0.010181"/>
      </geometry>
    </collision>
    <visual group="default">
      <origin rpy="1.5707963267949 0 0" xyz="0 0 0"/>
      <geometry>
        <cylinder length="0.010059" radius="0.010348"/>
      </geometry>
    </visual>
    <collision group="default">
      <origin rpy="1.5707963267949 0 0" xyz="0 0 0"/>
      <geometry>
        <cylinder length="0.010059" radius="0.010348"/>
      </geometry>
    </collision>
  </link>
  <link name="r_uarm">
    <inertial>
      <mass value="1.881"/>
      <origin rpy="0 -0 0" xyz="0.007 -0.114 0.008"/>
      <inertia ixx="0.002" ixy="0" ixz="0" iyy="0.003" iyz="0" izz="0.003"/>
    </inertial>
    <visual group="default">
      <origin rpy="0 1.5708 0" xyz="0.001 -0.111 0.0"/>
      <geometry>
        <cylinder length="0.125" radius="0.045"/>
      </geometry>
    </visual>
    <collision group="default">
      <origin rpy="0 1.5708 0" xyz="0.001 -0.111 0.0"/>
      <geometry>
        <cylinder length="0.125" radius="0.045"/>
      </geometry>
    </collision>
    <visual group="default">
      <origin rpy="0 1.5707963267949 0" xyz="0.001 -0.043 0.01"/>
      <geometry>
        <box size="0.04 0.07 0.13"/>
      </geometry>
    </visual>
    <collision group="default">
      <origin rpy="0 1.5707963267949 0" xyz="0.001 -0.043 0.01"/>
      <geometry>
        <box size="0.04 0.07 0.13"/>
      </geometry>
    </collision>
  </link>
  <link name="r_uglut">
    <inertial>
      <mass value="1.51622"/>
      <origin rpy="0 -0 0" xyz="0.00529262 0.00344732 0.00313046"/>
      <inertia ixx="0.0327037" ixy="3.79607e-08" ixz="-2.79549e-05" iyy="0.0174182" iyz="3.2735e-08" izz="0.0071591"/>
    </inertial>
    <visual group="default">
      <origin rpy="0 1.5707963267949 0" xyz="0 0 0"/>
      <geometry>
        <cylinder length="0.078396" radius="0.019096"/>
      </geometry>
    </visual>
    <collision group="default">
      <origin rpy="0 1.5707963267949 0" xyz="0 0 0"/>
      <geometry>
        <cylinder length="0.078396" radius="0.019096"/>
      </geometry>
    </collision>
    <visual group="default">
      <origin rpy="0 0 0" xyz="0 0 0"/>
      <geometry>
        <cylinder length="0.080842" radius="0.019841"/>
      </geometry>
    </visual>
    <collision group="default">
      <origin rpy="0 0 0" xyz="0 0 0"/>
      <geometry>
        <cylinder length="0.080842" radius="0.019841"/>
      </geometry>
    </collision>
  </link>
  <link name="r_uleg">
    <inertial>
      <mass value="7.227"/>
      <origin rpy="0 -0 0" xyz="0 0 -0.21"/>
      <inertia ixx="0.0453457" ixy="0" ixz="0" iyy="0.09" iyz="0" izz="0.0071591"/>
    </inertial>
    <collision group="hamstring">
      <origin rpy="0 0 0" xyz="-0.1179 -0.02085 -0.18"/>
      <geometry>
        <sphere radius="0"/>
      </geometry>
    </collision>
    <visual>
      <origin rpy="0 0 0" xyz="-0.1179 -0.02085 -0.18"/>
      <geometry>
        <sphere radius="0.01"/>
      </geometry>
    </visual>
    <collision group="hamstring">
      <origin rpy="0 0 0" xyz="-0.1179 -0.02085 -0.08"/>
      <geometry>
        <sphere radius="0"/>
      </geometry>
    </collision>
    <visual>
      <origin rpy="0 0 0" xyz="-0.1179 -0.02085 -0.08"/>
      <geometry>
        <sphere radius="0.01"/>
      </geometry>
    </visual>
    <visual group="default">
      <origin rpy="0 0 0" xyz="-0.0179 -0.02085 -0.13"/>
      <geometry>
        <cylinder length="0.10" radius="0.1"/>
      </geometry>
    </visual>
    <collision group="default">
      <origin rpy="0 0 0" xyz="-0.0179 -0.02085 -0.13"/>
      <geometry>
        <cylinder length="0.10" radius="0.1"/>
      </geometry>
    </collision>
    <visual group="default">
      <origin rpy="0 -0.3 0" xyz="-0.03 -0.01 -0.23"/>
      <geometry>
        <cylinder length="0.15" radius="0.07"/>
      </geometry>
    </visual>
    <collision group="default">
      <origin rpy="0 -0.3 0" xyz="-0.03 -0.01 -0.23"/>
      <geometry>
        <cylinder length="0.15" radius="0.07"/>
      </geometry>
    </collision>
    <visual group="default">
      <origin rpy="0 0.3 0" xyz="-0.005 -0.01 -0.23"/>
      <geometry>
        <cylinder length="0.15" radius="0.07"/>
      </geometry>
    </visual>
    <collision group="default">
      <origin rpy="0 0.3 0" xyz="-0.005 -0.01 -0.23"/>
      <geometry>
        <cylinder length="0.15" radius="0.07"/>
      </geometry>
    </collision>
    <visual group="default">
      <origin rpy="0.25 0 0" xyz="-0.02 -0.03 -0.23"/>
      <geometry>
        <cylinder length="0.15" radius="0.07"/>
      </geometry>
    </visual>
    <collision group="default">
      <origin rpy="0.25 0 0" xyz="-0.02 -0.03 -0.23"/>
      <geometry>
        <cylinder length="0.15" radius="0.07"/>
      </geometry>
    </collision>
  </link>
  <link name="utorso">
    <inertial>
      <mass value="15.2272"/>
      <origin rpy="0 -0 0" xyz="0.02 -0.001 0.211"/>
      <inertia ixx="0.395" ixy="0" ixz="0.083" iyy="0.544742" iyz="-0.003" izz="0.10973"/>
    </inertial>
    <collision group="front">
      <origin rpy="0 0 0" xyz="0.2040 0.12 0.3471"/>
      <geometry>
        <sphere radius="0"/>
      </geometry>
    </collision>
    <visual>
      <origin rpy="0 0 0" xyz="0.2040 0.12 0.3471"/>
      <geometry>
        <sphere radius="0.01"/>
      </geometry>
    </visual>
    <collision group="front">
      <origin rpy="0 0 0" xyz="0.2040 -0.12 0.3471"/>
      <geometry>
        <sphere radius="0"/>
      </geometry>
    </collision>
    <visual>
      <origin rpy="0 0 0" xyz="0.2040 -0.12 0.3471"/>
      <geometry>
        <sphere radius="0.01"/>
      </geometry>
    </visual>
    <collision group="front">
      <origin rpy="0 0 0" xyz="0.2040 0.12 0.0309"/>
      <geometry>
        <sphere radius="0"/>
      </geometry>
    </collision>
    <visual>
      <origin rpy="0 0 0" xyz="0.2040 0.12 0.0309"/>
      <geometry>
        <sphere radius="0.01"/>
      </geometry>
    </visual>
    <collision group="front">
      <origin rpy="0 0 0" xyz="0.2040 -0.12 0.0309"/>
      <geometry>
        <sphere radius="0"/>
      </geometry>
    </collision>
    <visual>
      <origin rpy="0 0 0" xyz="0.2040 -0.12 0.0309"/>
      <geometry>
        <sphere radius="0.01"/>
      </geometry>
    </visual>
    <collision group="back">
      <origin rpy="0 0 0" xyz="-0.1148 0.12 0.3471"/>
      <geometry>
        <sphere radius="0"/>
      </geometry>
    </collision>
    <visual>
      <origin rpy="0 0 0" xyz="-0.1148 0.12 0.3471"/>
      <geometry>
        <sphere radius="0.01"/>
      </geometry>
    </visual>
    <collision group="back">
      <origin rpy="0 0 0" xyz="-0.1148 -0.12 0.3471"/>
      <geometry>
        <sphere radius="0"/>
      </geometry>
    </collision>
    <visual>
      <origin rpy="0 0 0" xyz="-0.1148 -0.12 0.3471"/>
      <geometry>
        <sphere radius="0.01"/>
      </geometry>
    </visual>
    <collision group="back">
      <origin rpy="0 0 0" xyz="-0.1148 0.12 0.0309"/>
      <geometry>
        <sphere radius="0"/>
      </geometry>
    </collision>
    <visual>
      <origin rpy="0 0 0" xyz="-0.1148 0.12 0.0309"/>
      <geometry>
        <sphere radius="0.01"/>
      </geometry>
    </visual>
    <collision group="back">
      <origin rpy="0 0 0" xyz="-0.1148 -0.12 0.0309"/>
      <geometry>
        <sphere radius="0"/>
      </geometry>
    </collision>
    <visual>
      <origin rpy="0 0 0" xyz="-0.1148 -0.12 0.0309"/>
      <geometry>
        <sphere radius="0.01"/>
      </geometry>
    </visual>
    <visual group="default">
      <origin rpy="0 -0 0" xyz="0.0446 0 0.1869"/>
      <geometry>
        <box size="0.3188 0.24 0.3162"/>
      </geometry>
    </visual>
    <collision group="default">
      <origin rpy="0 -0 0" xyz="0.0446 0 0.1869"/>
      <geometry>
        <box size="0.3188 0.24 0.3162"/>
      </geometry>
    </collision>
    <visual group="default">
      <origin rpy="-0.5236 0 0" xyz="0.024 0.16 0.18"/>
      <geometry>
        <cylinder length="0.22375" radius="0.0363"/>
      </geometry>
    </visual>
    <collision group="default">
      <origin rpy="-0.5236 0 0" xyz="0.024 0.16 0.18"/>
      <geometry>
        <cylinder length="0.22375" radius="0.0363"/>
      </geometry>
    </collision>
    <visual group="default">
      <origin rpy="0.5236 0 0" xyz="0.024 -0.16 0.18"/>
      <geometry>
        <cylinder length="0.22375" radius="0.0363"/>
      </geometry>
    </visual>
    <collision group="default">
      <origin rpy="0.5236 0 0" xyz="0.024 -0.16 0.18"/>
      <geometry>
        <cylinder length="0.22375" radius="0.0363"/>
      </geometry>
    </collision>
  </link>
  <joint name="back_bkz" type="revolute">
    <origin rpy="0 -0 0" xyz="-0.0125 0 0"/>
    <axis xyz="0 0 1"/>
    <parent link="pelvis"/>
    <child link="ltorso"/>
    <dynamics damping="10" friction="0"/>
    <limit effort="124.016" lower="-0.610865" upper="0.610865" velocity="12"/>
    <safety_controller k_position="100" k_velocity="100" soft_lower_limit="-10.6109" soft_upper_limit="10.6109"/>
  </joint>
  <joint name="back_bky" type="revolute">
    <origin rpy="0 -0 0" xyz="0 0 0.09"/>
    <axis xyz="0 1 0"/>
    <parent link="ltorso"/>
    <child link="mtorso"/>
    <dynamics damping="10" friction="0"/>
    <limit effort="206.843" lower="-0.62" upper="0.46" velocity="12"/>
    <safety_controller k_position="100" k_velocity="100" soft_lower_limit="-11.2" soft_upper_limit="11.28"/>
  </joint>
  <joint name="back_bkx" type="revolute">
    <origin rpy="0 -0 0" xyz="0 0 0.05"/>
    <axis xyz="1 0 0"/>
    <parent link="mtorso"/>
    <child link="utorso"/>
    <dynamics damping="10" friction="0"/>
    <limit effort="94.91" lower="-0.5" upper="0.5" velocity="12"/>
    <safety_controller k_position="100" k_velocity="100" soft_lower_limit="-10.7908" soft_upper_limit="10.7908"/>
  </joint>
  <joint name="l_arm_elx" type="revolute">
    <origin rpy="0 -0 0" xyz="0 0.121 0.013"/>
    <axis xyz="1 0 0"/>
    <parent link="l_uarm"/>
    <child link="l_larm"/>
    <dynamics damping="1.0" friction="0"/>
    <limit effort="114" lower="0" upper="2.35619" velocity="12"/>
    <safety_controller k_position="100" k_velocity="100" soft_lower_limit="-10" soft_upper_limit="12.3562"/>
  </joint>
  <joint name="l_arm_ely" type="revolute">
    <origin rpy="0 -0 0" xyz="0 0.185 0"/>
    <axis xyz="0 1 0"/>
    <parent link="l_scap"/>
    <child link="l_uarm"/>
    <dynamics damping="1.0" friction="0"/>
    <limit effort="114" lower="0" upper="3.14159" velocity="12"/>
    <safety_controller k_position="100" k_velocity="100" soft_lower_limit="-10" soft_upper_limit="13.1416"/>
  </joint>
  <joint name="l_arm_mwx" type="revolute">
    <origin rpy="0 -0 0" xyz="0 0.058 0"/>
    <axis xyz="1 0 0"/>
    <parent link="l_farm"/>
    <child link="l_hand"/>
    <dynamics damping="1.0" friction="0"/>
    <limit effort="60" lower="-1.165" upper="1.125" velocity="12"/>
    <safety_controller k_position="100" k_velocity="100" soft_lower_limit="-10.436" soft_upper_limit="11.571"/>
  </joint>
  <joint name="l_arm_shx" type="revolute">
    <origin rpy="0 -0 0" xyz="0 0.075 0.036"/>
    <axis xyz="1 0 0"/>
    <parent link="l_clav"/>
    <child link="l_scap"/>
    <dynamics damping="1.0" friction="0"/>
    <limit effort="170" lower="-1.54" upper="1.45" velocity="12"/>
    <safety_controller k_position="100" k_velocity="100" soft_lower_limit="-11.3963" soft_upper_limit="11.7453"/>
  </joint>
  <joint name="l_arm_usy" type="revolute">
    <origin rpy="0 -0 0" xyz="0.024 0.221 0.289"/>
    <axis xyz="0 0.5 0.866025"/>
    <parent link="utorso"/>
    <child link="l_clav"/>
    <dynamics damping="1.0" friction="0"/>
    <limit effort="212" lower="-1.55" upper="0.75" velocity="12"/>
    <safety_controller k_position="100" k_velocity="100" soft_lower_limit="-11.9635" soft_upper_limit="11.9635"/>
  </joint>
  <joint name="l_arm_uwy" type="revolute">
    <origin rpy="0 -0 0" xyz="0 0.188 -0.013"/>
    <axis xyz="0 1 0"/>
    <parent link="l_larm"/>
    <child link="l_farm"/>
    <dynamics damping="1.0" friction="0"/>
    <limit effort="114" lower="0.0" upper="3.07" velocity="12"/>
    <safety_controller k_position="100" k_velocity="100" soft_lower_limit="-11.571" soft_upper_limit="11.571"/>
  </joint>
  <joint name="l_leg_kny" type="revolute">
    <origin rpy="0 -0 0" xyz="-0.05 0 -0.374"/>
    <axis xyz="0 1 0"/>
    <parent link="l_uleg"/>
    <child link="l_lleg"/>
    <dynamics damping="1.0" friction="0"/>
    <limit effort="400" lower="0" upper="2.45" velocity="12"/>
    <safety_controller k_position="100" k_velocity="100" soft_lower_limit="-10" soft_upper_limit="12.45"/>
  </joint>
  <joint name="l_leg_akx" type="revolute">
    <origin rpy="0 -0 0" xyz="0 0 0"/>
    <axis xyz="1 0 0"/>
    <parent link="l_talus"/>
    <child link="l_foot"/>
    <dynamics damping="1.0" friction="0"/>
    <limit effort="90" lower="-0.436" upper="0.436" velocity="12"/>
    <safety_controller k_position="100" k_velocity="100" soft_lower_limit="-10.436" soft_upper_limit="10.436"/>
  </joint>
  <joint name="l_leg_hpy" type="revolute">
    <origin rpy="0 -0 0" xyz="0.05 0 -0.05"/>
    <axis xyz="0 1 0"/>
    <parent link="l_lglut"/>
    <child link="l_uleg"/>
    <dynamics damping="1.0" friction="0"/>
    <limit effort="260" lower="-1.75" upper="0.524" velocity="12"/>
    <safety_controller k_position="100" k_velocity="100" soft_lower_limit="-11.75" soft_upper_limit="10.524"/>
  </joint>
  <joint name="l_leg_hpx" type="revolute">
    <origin rpy="0 -0 0" xyz="0 0 0"/>
    <axis xyz="1 0 0"/>
    <parent link="l_uglut"/>
    <child link="l_lglut"/>
    <dynamics damping="1.0" friction="0"/>
    <limit effort="180" lower="-0.47" upper="0.495" velocity="12"/>
    <safety_controller k_position="100" k_velocity="100" soft_lower_limit="-10.47" soft_upper_limit="10.495"/>
  </joint>
  <joint name="l_leg_aky" type="revolute">
    <origin rpy="0 -0 0" xyz="0 0 -0.422"/>
    <axis xyz="0 1 0"/>
    <parent link="l_lleg"/>
    <child link="l_talus"/>
    <dynamics damping="1.0" friction="0"/>
    <limit effort="220" lower="-0.9" upper="0.698" velocity="12"/>
    <safety_controller k_position="100" k_velocity="100" soft_lower_limit="-10.698" soft_upper_limit="10.698"/>
  </joint>
  <joint name="l_leg_hpz" type="revolute">
    <origin rpy="0 -0 0" xyz="0 0.089 0"/>
    <axis xyz="0 0 1"/>
    <parent link="pelvis"/>
    <child link="l_uglut"/>
    <dynamics damping="1.0" friction="0"/>
    <limit effort="110" lower="-0.32" upper="1.14" velocity="12"/>
    <safety_controller k_position="100" k_velocity="100" soft_lower_limit="-10.32" soft_upper_limit="11.14"/>
  </joint>
  <joint name="neck_ay" type="revolute">
    <!-- per slides on sensor head kinematics 2013-02-13 -->
    <origin rpy="0 -0 0" xyz="0.21672 0 0.53796"/>
    <axis xyz="0 1 0"/>
    <parent link="utorso"/>
    <child link="head"/>
    <dynamics damping="1.0" friction="0"/>
    <!-- per slides on sensor head kinematics 2012-12-14 -->
    <limit effort="10" lower="-0.594" upper="1.147" velocity="12"/>
    <safety_controller k_position="100" k_velocity="100" soft_lower_limit="-10.610865238" soft_upper_limit="11.13446401"/>
  </joint>
  <joint name="r_arm_elx" type="revolute">
    <origin rpy="0 -0 0" xyz="0 -0.121 0.013"/>
    <axis xyz="1 0 0"/>
    <parent link="r_uarm"/>
    <child link="r_larm"/>
    <dynamics damping="1.0" friction="0"/>
    <limit effort="114" lower="-2.35619" upper="0" velocity="12"/>
    <safety_controller k_position="100" k_velocity="100" soft_lower_limit="-12.3562" soft_upper_limit="10"/>
  </joint>
  <joint name="r_arm_ely" type="revolute">
    <origin rpy="0 -0 0" xyz="0 -0.185 0"/>
    <axis xyz="0 1 0"/>
    <parent link="r_scap"/>
    <child link="r_uarm"/>
    <dynamics damping="1.0" friction="0"/>
    <limit effort="114" lower="0" upper="3.14159" velocity="12"/>
    <safety_controller k_position="100" k_velocity="100" soft_lower_limit="-10" soft_upper_limit="13.1416"/>
  </joint>
  <joint name="r_arm_mwx" type="revolute">
    <origin rpy="0 -0 0" xyz="0 -0.058 0"/>
    <axis xyz="1 0 0"/>
    <parent link="r_farm"/>
    <child link="r_hand"/>
    <dynamics damping="1.0" friction="0"/>
    <limit effort="60" lower="-1.165" upper="1.125" velocity="12"/>
    <safety_controller k_position="100" k_velocity="100" soft_lower_limit="-11.571" soft_upper_limit="10.436"/>
  </joint>
  <joint name="r_arm_shx" type="revolute">
    <origin rpy="0 -0 0" xyz="0 -0.075 0.036"/>
    <axis xyz="1 0 0"/>
    <parent link="r_clav"/>
    <child link="r_scap"/>
    <dynamics damping="1.0" friction="0"/>
    <limit effort="170" lower="-1.45" upper="1.54" velocity="12"/>
    <safety_controller k_position="100" k_velocity="100" soft_lower_limit="-11.7453" soft_upper_limit="11.3963"/>
  </joint>
  <joint name="r_arm_usy" type="revolute">
    <origin rpy="0 -0 0" xyz="0.024 -0.221 0.289"/>
    <axis xyz="0 0.5 -0.866025"/>
    <parent link="utorso"/>
    <child link="r_clav"/>
    <dynamics damping="1.0" friction="0"/>
    <limit effort="212" lower="-1.55" upper="0.75" velocity="12"/>
    <safety_controller k_position="100" k_velocity="100" soft_lower_limit="-11.9635" soft_upper_limit="11.9635"/>
  </joint>
  <joint name="r_arm_uwy" type="revolute">
    <origin rpy="0 -0 0" xyz="0 -0.188 -0.013"/>
    <axis xyz="0 1 0"/>
    <parent link="r_larm"/>
    <child link="r_farm"/>
    <dynamics damping="1.0" friction="0"/>
    <limit effort="114" lower="0.0" upper="3.07" velocity="12"/>
    <safety_controller k_position="100" k_velocity="100" soft_lower_limit="-11.571" soft_upper_limit="11.571"/>
  </joint>
  <joint name="r_leg_kny" type="revolute">
    <origin rpy="0 -0 0" xyz="-0.05 0 -0.374"/>
    <axis xyz="0 1 0"/>
    <parent link="r_uleg"/>
    <child link="r_lleg"/>
    <dynamics damping="1.0" friction="0"/>
    <limit effort="400" lower="0" upper="2.45" velocity="12"/>
    <safety_controller k_position="100" k_velocity="100" soft_lower_limit="-10" soft_upper_limit="12.45"/>
  </joint>
  <joint name="r_leg_akx" type="revolute">
    <origin rpy="0 -0 0" xyz="0 0 0"/>
    <axis xyz="1 0 0"/>
    <parent link="r_talus"/>
    <child link="r_foot"/>
    <dynamics damping="1.0" friction="0"/>
    <limit effort="90" lower="-0.436" upper="0.436" velocity="12"/>
    <safety_controller k_position="100" k_velocity="100" soft_lower_limit="-10.436" soft_upper_limit="10.436"/>
  </joint>
  <joint name="r_leg_hpy" type="revolute">
    <origin rpy="0 -0 0" xyz="0.05 0 -0.05"/>
    <axis xyz="0 1 0"/>
    <parent link="r_lglut"/>
    <child link="r_uleg"/>
    <dynamics damping="1.0" friction="0"/>
    <limit effort="260" lower="-1.745" upper="0.524" velocity="12"/>
    <safety_controller k_position="100" k_velocity="100" soft_lower_limit="-11.745" soft_upper_limit="10.524"/>
  </joint>
  <joint name="r_leg_hpx" type="revolute">
    <origin rpy="0 -0 0" xyz="0 0 0"/>
    <axis xyz="1 0 0"/>
    <parent link="r_uglut"/>
    <child link="r_lglut"/>
    <dynamics damping="1.0" friction="0"/>
    <limit effort="180" lower="-0.495" upper="0.47" velocity="12"/>
    <safety_controller k_position="100" k_velocity="100" soft_lower_limit="-10.495" soft_upper_limit="10.47"/>
  </joint>
  <joint name="r_leg_aky" type="revolute">
    <origin rpy="0 -0 0" xyz="0 0 -0.422"/>
    <axis xyz="0 1 0"/>
    <parent link="r_lleg"/>
    <child link="r_talus"/>
    <dynamics damping="1.0" friction="0"/>
    <limit effort="220" lower="-0.9" upper="0.698" velocity="12"/>
    <safety_controller k_position="100" k_velocity="100" soft_lower_limit="-10.698" soft_upper_limit="10.698"/>
  </joint>
  <joint name="r_leg_hpz" type="revolute">
    <origin rpy="0 -0 0" xyz="0 -0.089 0"/>
    <axis xyz="0 0 1"/>
    <parent link="pelvis"/>
    <child link="r_uglut"/>
    <dynamics damping="1.0" friction="0"/>
    <limit effort="110" lower="-1.14" upper="0.32" velocity="12"/>
    <safety_controller k_position="100" k_velocity="100" soft_lower_limit="-11.14" soft_upper_limit="10.32"/>
  </joint>
  <link name="right_palm">
    <origin rpy="0 0 0" xyz="0 0 0"/>
    <inertial>
      <mass value="0.3"/>
      <origin xyz="0 0 0"/>
      <inertia ixx="0.01" ixy="0" ixz="0" iyy="0.01" iyz="0" izz="0.01"/>
    </inertial>
    <!-- begin simple shape approximation of palm -->
    <collision group="default">
      <origin rpy="0 1.57079632679 -0.9" xyz="0.069 0.016 0.038"/>
      <geometry>
        <cylinder length="0.100" radius="0.013"/>
      </geometry>
    </collision>
    <collision group="other">
      <origin rpy="0.41 0 -0.9" xyz="0.064 0.008 0.021"/>
      <geometry>
        <box size="0.09 .035 .05"/>
      </geometry>
    </collision>
    <collision group="other">
      <origin rpy="0 1.57079632679 0" xyz="0.02 0 -0.005"/>
      <geometry>
        <cylinder length="0.05" radius="0.038"/>
      </geometry>
    </collision>
    <collision group="other">
      <origin rpy="0 0 0.37" xyz="0.11 -0.01 -0.005"/>
      <geometry>
        <box size="0.09 .03 .06"/>
      </geometry>
    </collision>
    <collision group="other">
      <origin rpy="0 0 0.37" xyz="0.09 0.02 -0.005"/>
      <geometry>
        <box size="0.09 .03 .06"/>
      </geometry>
    </collision>
    <collision group="knuckle">
      <origin rpy="0 0 0" xyz="0.175 0 0"/>
      <geometry>
        <sphere radius="0"/>
      </geometry>
    </collision>
    <visual group="knuckle">
      <origin rpy="0 0 0" xyz="0.175 0 0"/>
      <geometry>
        <sphere radius="0.005"/>
      </geometry>
    </visual>
    <collision group="other">
      <origin rpy="0 0 0.37" xyz="0.060 0.05 -0.005"/>
      <geometry>
        <box size="0.09 .03 .06"/>
      </geometry>
    </collision>
    <collision group="other">
      <origin rpy="0 0 0.79" xyz="0.044 -0.04 -0.005"/>
      <geometry>
        <box size="0.09 .03 .06"/>
      </geometry>
    </collision>
    <!--   end simple shape approximation of palm -->
    <!-- begin visual shape approximation of palm -->
    <visual>
      <origin rpy="0 1.57079632679 -0.9" xyz="0.069 0.016 0.038"/>
      <geometry>
        <cylinder length="0.100" radius="0.013"/>
      </geometry>
      <material name="right_sandia_hand_skin">
        <color rgba="0.835 0.655 0.345 1.0"/>
      </material>
    </visual>
    <visual>
      <origin rpy="0.41 0 -0.9" xyz="0.064 0.008 0.021"/>
      <geometry>
        <box size="0.09 .035 .05"/>
      </geometry>
      <material name="right_sandia_hand_skin">
        <color rgba="0.835 0.655 0.345 1.0"/>
      </material>
    </visual>
    <visual>
      <origin rpy="0 1.57079632679 0" xyz="0.02 0 -0.005"/>
      <geometry>
        <cylinder length="0.05" radius="0.038"/>
      </geometry>
      <material name="right_sandia_hand_skin">
        <color rgba="0.835 0.655 0.345 1.0"/>
      </material>
    </visual>
    <visual>
      <origin rpy="0 0 0.37" xyz="0.11 -0.01 -0.005"/>
      <geometry>
        <box size="0.09 .03 .06"/>
      </geometry>
      <material name="right_sandia_hand_skin">
        <color rgba="0.835 0.655 0.345 1.0"/>
      </material>
    </visual>
    <visual>
      <origin rpy="0 0 0.37" xyz="0.09 0.02 -0.005"/>
      <geometry>
        <box size="0.09 .03 .06"/>
      </geometry>
      <material name="right_sandia_hand_skin">
        <color rgba="0.835 0.655 0.345 1.0"/>
      </material>
    </visual>
    <visual>
      <origin rpy="0 0 0.37" xyz="0.060 0.05 -0.005"/>
      <geometry>
        <box size="0.09 .03 .06"/>
      </geometry>
      <material name="right_sandia_hand_skin">
        <color rgba="0.835 0.655 0.345 1.0"/>
      </material>
    </visual>
    <visual>
      <origin rpy="0 0 0.79" xyz="0.044 -0.04 -0.005"/>
      <geometry>
        <box size="0.09 .03 .06"/>
      </geometry>
      <material name="right_sandia_hand_skin">
        <color rgba="0.835 0.655 0.345 1.0"/>
      </material>
    </visual>
    <!--   end visual shape approximation of palm -->
    <!-- begin collision mesh of f2 ->
      <collision group="default">
        <origin xyz="0 0 0" rpy="0 0 0"/>
        <geometry>
          <mesh filename="package://sandia_hand_description/meshes/palm.stl"/>
        </geometry>
      </collision>
      <!-   end collision mesh of f2 -->
    <!-- begin visual mesh of f2    ->
      <visual>
        <origin xyz="0 0 0" rpy="0 0 0"/>
        <geometry>
          <mesh filename="package://sandia_hand_description/meshes/palm.stl"/>
        </geometry>
        <material name="${side}_sandia_hand_skin">
          <color rgba="0.835 0.655 0.345 1.0"/>
        </material>
      </visual>
      <!-   end visual mesh of f2 -->
  </link>
  <joint name="right_sandia_hand_joint" type="fixed">
    <parent link="r_hand"/>
    <child link="right_palm"/>
    <origin rpy="-1.57079 0 -1.57079" xyz="0 -0.1 0"/>
  </joint>
  <link name="right_hook">
    <collision group="default">
      <origin rpy="0 0 0" xyz="-0.045 0.015 -0.03"/>
      <geometry>
        <sphere radius="0"/>
      </geometry>
    </collision>
    <visual>
      <origin rpy="0 0 0" xyz="-0.045 0.015 -0.03"/>
      <geometry>
        <sphere radius="0.01"/>
      </geometry>
    </visual>
    <collision group="default">
      <origin rpy="0 0 0" xyz="-0.045 0.015 0.03"/>
      <geometry>
        <sphere radius="0"/>
      </geometry>
    </collision>
    <visual>
      <origin rpy="0 0 0" xyz="-0.045 0.015 0.03"/>
      <geometry>
        <sphere radius="0.01"/>
      </geometry>
    </visual>
  </link>
  <joint name="right_hook_joint" type="fixed">
    <origin rpy="0 0 0.79" xyz="0.044 -0.04 -0.005"/>
    <parent link="right_palm"/>
    <child link="right_hook"/>
  </joint>
  <link name="left_palm">
    <origin rpy="0 0 0" xyz="0 0 0"/>
    <inertial>
      <mass value="0.3"/>
      <origin xyz="0 0 0"/>
      <inertia ixx="0.01" ixy="0" ixz="0" iyy="0.01" iyz="0" izz="0.01"/>
    </inertial>
    <!-- begin simple shape approximation of palm -->
    <collision group="default">
      <origin rpy="0 1.57079632679 0.9" xyz="0.069 -0.016 0.038"/>
      <geometry>
        <cylinder length="0.100" radius="0.013"/>
      </geometry>
    </collision>
    <collision group="other">
      <origin rpy="0.41 0 0.9" xyz="0.064 -0.008 0.021"/>
      <geometry>
        <box size="0.09 .035 .05"/>
      </geometry>
    </collision>
    <collision group="other">
      <origin rpy="0 1.57079632679 0" xyz="0.02 0 -0.005"/>
      <geometry>
        <cylinder length="0.05" radius="0.038"/>
      </geometry>
    </collision>
    <collision group="other">
      <origin rpy="0 0 -0.37" xyz="0.11 0.01 -0.005"/>
      <geometry>
        <box size="0.09 .03 .06"/>
      </geometry>
    </collision>
    <collision group="other">
      <origin rpy="0 0 -0.37" xyz="0.09 -0.02 -0.005"/>
      <geometry>
        <box size="0.09 .03 .06"/>
      </geometry>
    </collision>
    <collision group="knuckle">
      <origin rpy="0 0 0" xyz="0.175 0 0"/>
      <geometry>
        <sphere radius="0"/>
      </geometry>
    </collision>
    <visual group="knuckle">
      <origin rpy="0 0 0" xyz="0.175 0 0"/>
      <geometry>
        <sphere radius="0.005"/>
      </geometry>
    </visual>
    <collision group="other">
      <origin rpy="0 0 -0.37" xyz="0.060 -0.05 -0.005"/>
      <geometry>
        <box size="0.09 .03 .06"/>
      </geometry>
    </collision>
    <collision group="other">
      <origin rpy="0 0 -0.79" xyz="0.044 0.04 -0.005"/>
      <geometry>
        <box size="0.09 .03 .06"/>
      </geometry>
    </collision>
    <!--   end simple shape approximation of palm -->
    <!-- begin visual shape approximation of palm -->
    <visual>
      <origin rpy="0 1.57079632679 0.9" xyz="0.069 -0.016 0.038"/>
      <geometry>
        <cylinder length="0.100" radius="0.013"/>
      </geometry>
      <material name="left_sandia_hand_skin">
        <color rgba="0.835 0.655 0.345 1.0"/>
      </material>
    </visual>
    <visual>
      <origin rpy="0.41 0 0.9" xyz="0.064 -0.008 0.021"/>
      <geometry>
        <box size="0.09 .035 .05"/>
      </geometry>
      <material name="left_sandia_hand_skin">
        <color rgba="0.835 0.655 0.345 1.0"/>
      </material>
    </visual>
    <visual>
      <origin rpy="0 1.57079632679 0" xyz="0.02 0 -0.005"/>
      <geometry>
        <cylinder length="0.05" radius="0.038"/>
      </geometry>
      <material name="left_sandia_hand_skin">
        <color rgba="0.835 0.655 0.345 1.0"/>
      </material>
    </visual>
    <visual>
      <origin rpy="0 0 -0.37" xyz="0.11 0.01 -0.005"/>
      <geometry>
        <box size="0.09 .03 .06"/>
      </geometry>
      <material name="left_sandia_hand_skin">
        <color rgba="0.835 0.655 0.345 1.0"/>
      </material>
    </visual>
    <visual>
      <origin rpy="0 0 -0.37" xyz="0.09 -0.02 -0.005"/>
      <geometry>
        <box size="0.09 .03 .06"/>
      </geometry>
      <material name="left_sandia_hand_skin">
        <color rgba="0.835 0.655 0.345 1.0"/>
      </material>
    </visual>
    <visual>
      <origin rpy="0 0 -0.37" xyz="0.060 -0.05 -0.005"/>
      <geometry>
        <box size="0.09 .03 .06"/>
      </geometry>
      <material name="left_sandia_hand_skin">
        <color rgba="0.835 0.655 0.345 1.0"/>
      </material>
    </visual>
    <visual>
      <origin rpy="0 0 -0.79" xyz="0.044 0.04 -0.005"/>
      <geometry>
        <box size="0.09 .03 .06"/>
      </geometry>
      <material name="left_sandia_hand_skin">
        <color rgba="0.835 0.655 0.345 1.0"/>
      </material>
    </visual>
    <!--   end visual shape approximation of palm -->
    <!-- begin collision mesh of f2 ->
      <collision group="default">
        <origin xyz="0 0 0" rpy="0 0 0"/>
        <geometry>
          <mesh filename="package://sandia_hand_description/meshes/palm.stl"/>
        </geometry>
      </collision>
      <!-   end collision mesh of f2 -->
    <!-- begin visual mesh of f2    ->
      <visual>
        <origin xyz="0 0 0" rpy="0 0 0"/>
        <geometry>
          <mesh filename="package://sandia_hand_description/meshes/palm.stl"/>
        </geometry>
        <material name="${side}_sandia_hand_skin">
          <color rgba="0.835 0.655 0.345 1.0"/>
        </material>
      </visual>
      <!-   end visual mesh of f2 -->
  </link>
  <joint name="left_sandia_hand_joint" type="fixed">
    <parent link="l_hand"/>
    <child link="left_palm"/>
    <origin rpy=" 1.57079 0  1.57079" xyz="0  0.1 0"/>
  </joint>
  <link name="left_hook">
    <collision group="default">
      <origin rpy="0 0 0" xyz="-0.045 -0.015 -0.03"/>
      <geometry>
        <sphere radius="0"/>
      </geometry>
    </collision>
    <visual>
      <origin rpy="0 0 0" xyz="-0.045 -0.015 -0.03"/>
      <geometry>
        <sphere radius="0.01"/>
      </geometry>
    </visual>
    <collision group="default">
      <origin rpy="0 0 0" xyz="-0.045 -0.015 0.03"/>
      <geometry>
        <sphere radius="0"/>
      </geometry>
    </collision>
    <visual>
      <origin rpy="0 0 0" xyz="-0.045 -0.015 0.03"/>
      <geometry>
        <sphere radius="0.01"/>
      </geometry>
    </visual>
  </link>
  <joint name="left_hook_joint" type="fixed">
    <origin rpy="0 0 -0.79" xyz="0.044 0.04 -0.005"/>
    <parent link="left_palm"/>
    <child link="left_hook"/>
  </joint>
  <!--<joint name='rwrist' type='fixed'>
  you can specify xyz offset to locate the manipulator
  <origin rpy="0 3.1416  1.57079" xyz="0 -0.1 -0.03"/>
  <parent link='r_hand' />
  <child link='right_palm'/>
  </joint>

  <joint name='lwrist' type='fixed'>
   you can specify xyz offset to locate the manipulator
  <origin rpy="0 3.1416  -1.57079" xyz="0 0.1 -0.03"/>
  <parent link='l_hand' />
  <child link='left_palm'/>
  </joint> -->
  <transmission name="back_bkz_trans" type="pr2_mechanism_model/SimpleTransmission">
    <joint name="back_bkz"/>
    <actuator name="back_bkz_motor"/>
    <mechanicalReduction>1</mechanicalReduction>
  </transmission>
  <transmission name="back_bky_trans" type="pr2_mechanism_model/SimpleTransmission">
    <actuator name="back_bky_motor"/>
    <joint name="back_bky"/>
    <mechanicalReduction>1</mechanicalReduction>
  </transmission>
  <transmission name="back_bkx_trans" type="pr2_mechanism_model/SimpleTransmission">
    <actuator name="back_bkx_motor"/>
    <joint name="back_bkx"/>
    <mechanicalReduction>1</mechanicalReduction>
  </transmission>
  <transmission name="l_arm_elx_trans" type="pr2_mechanism_model/SimpleTransmission">
    <actuator name="l_arm_elx_motor"/>
    <joint name="l_arm_elx"/>
    <mechanicalReduction>1</mechanicalReduction>
  </transmission>
  <transmission name="l_arm_ely_trans" type="pr2_mechanism_model/SimpleTransmission">
    <actuator name="l_arm_ely_motor"/>
    <joint name="l_arm_ely"/>
    <mechanicalReduction>1</mechanicalReduction>
  </transmission>
  <transmission name="l_arm_mwx_trans" type="pr2_mechanism_model/SimpleTransmission">
    <actuator name="l_arm_mwx_motor"/>
    <joint name="l_arm_mwx"/>
    <mechanicalReduction>1</mechanicalReduction>
  </transmission>
  <transmission name="l_arm_shx_trans" type="pr2_mechanism_model/SimpleTransmission">
    <actuator name="l_arm_shx_motor"/>
    <joint name="l_arm_shx"/>
    <mechanicalReduction>1</mechanicalReduction>
  </transmission>
  <transmission name="l_arm_usy_trans" type="pr2_mechanism_model/SimpleTransmission">
    <actuator name="l_arm_usy_motor"/>
    <joint name="l_arm_usy"/>
    <mechanicalReduction>1</mechanicalReduction>
  </transmission>
  <transmission name="l_arm_uwy_trans" type="pr2_mechanism_model/SimpleTransmission">
    <actuator name="l_arm_uwy_motor"/>
    <joint name="l_arm_uwy"/>
    <mechanicalReduction>1</mechanicalReduction>
  </transmission>
  <transmission name="l_leg_kny_trans" type="pr2_mechanism_model/SimpleTransmission">
    <actuator name="l_leg_kny_motor"/>
    <joint name="l_leg_kny"/>
    <mechanicalReduction>1</mechanicalReduction>
  </transmission>
  <transmission name="l_leg_akx_trans" type="pr2_mechanism_model/SimpleTransmission">
    <actuator name="l_leg_akx_motor"/>
    <joint name="l_leg_akx"/>
    <mechanicalReduction>1</mechanicalReduction>
  </transmission>
  <transmission name="l_leg_hpy_trans" type="pr2_mechanism_model/SimpleTransmission">
    <actuator name="l_leg_hpy_motor"/>
    <joint name="l_leg_hpy"/>
    <mechanicalReduction>1</mechanicalReduction>
  </transmission>
  <transmission name="l_leg_hpx_trans" type="pr2_mechanism_model/SimpleTransmission">
    <actuator name="l_leg_hpx_motor"/>
    <joint name="l_leg_hpx"/>
    <mechanicalReduction>1</mechanicalReduction>
  </transmission>
  <transmission name="l_leg_aky_trans" type="pr2_mechanism_model/SimpleTransmission">
    <actuator name="l_leg_aky_motor"/>
    <joint name="l_leg_aky"/>
    <mechanicalReduction>1</mechanicalReduction>
  </transmission>
  <transmission name="l_leg_hpz_trans" type="pr2_mechanism_model/SimpleTransmission">
    <actuator name="l_leg_hpz_motor"/>
    <joint name="l_leg_hpz"/>
    <mechanicalReduction>1</mechanicalReduction>
  </transmission>
  <transmission name="neck_ay_trans" type="pr2_mechanism_model/SimpleTransmission">
    <actuator name="neck_ay_motor"/>
    <joint name="neck_ay"/>
    <mechanicalReduction>1</mechanicalReduction>
  </transmission>
  <transmission name="r_arm_elx_trans" type="pr2_mechanism_model/SimpleTransmission">
    <actuator name="r_arm_elx_motor"/>
    <joint name="r_arm_elx"/>
    <mechanicalReduction>1</mechanicalReduction>
  </transmission>
  <transmission name="r_arm_ely_trans" type="pr2_mechanism_model/SimpleTransmission">
    <actuator name="r_arm_ely_motor"/>
    <joint name="r_arm_ely"/>
    <mechanicalReduction>1</mechanicalReduction>
  </transmission>
  <transmission name="r_arm_mwx_trans" type="pr2_mechanism_model/SimpleTransmission">
    <actuator name="r_arm_mwx_motor"/>
    <joint name="r_arm_mwx"/>
    <mechanicalReduction>1</mechanicalReduction>
  </transmission>
  <transmission name="r_arm_shx_trans" type="pr2_mechanism_model/SimpleTransmission">
    <actuator name="r_arm_shx_motor"/>
    <joint name="r_arm_shx"/>
    <mechanicalReduction>1</mechanicalReduction>
  </transmission>
  <transmission name="r_arm_usy_trans" type="pr2_mechanism_model/SimpleTransmission">
    <actuator name="r_arm_usy_motor"/>
    <joint name="r_arm_usy"/>
    <mechanicalReduction>1</mechanicalReduction>
  </transmission>
  <transmission name="r_arm_uwy_trans" type="pr2_mechanism_model/SimpleTransmission">
    <actuator name="r_arm_uwy_motor"/>
    <joint name="r_arm_uwy"/>
    <mechanicalReduction>1</mechanicalReduction>
  </transmission>
  <transmission name="r_leg_kny_trans" type="pr2_mechanism_model/SimpleTransmission">
    <actuator name="r_leg_kny_motor"/>
    <joint name="r_leg_kny"/>
    <mechanicalReduction>1</mechanicalReduction>
  </transmission>
  <transmission name="r_leg_akx_trans" type="pr2_mechanism_model/SimpleTransmission">
    <actuator name="r_leg_akx_motor"/>
    <joint name="r_leg_akx"/>
    <mechanicalReduction>1</mechanicalReduction>
  </transmission>
  <transmission name="r_leg_hpy_trans" type="pr2_mechanism_model/SimpleTransmission">
    <actuator name="r_leg_hpy_motor"/>
    <joint name="r_leg_hpy"/>
    <mechanicalReduction>1</mechanicalReduction>
  </transmission>
  <transmission name="r_leg_hpx_trans" type="pr2_mechanism_model/SimpleTransmission">
    <actuator name="r_leg_hpx_motor"/>
    <joint name="r_leg_hpx"/>
    <mechanicalReduction>1</mechanicalReduction>
  </transmission>
  <transmission name="r_leg_aky_trans" type="pr2_mechanism_model/SimpleTransmission">
    <actuator name="r_leg_aky_motor"/>
    <joint name="r_leg_aky"/>
    <mechanicalReduction>1</mechanicalReduction>
  </transmission>
  <transmission name="r_leg_hpz_trans" type="pr2_mechanism_model/SimpleTransmission">
    <actuator name="r_leg_hpz_motor"/>
    <joint name="r_leg_hpz"/>
    <mechanicalReduction>1</mechanicalReduction>
  </transmission>
  <link name="head">
    <inertial>
      <origin rpy="0 0 0" xyz="-0.075493 3.3383E-05 0.02774"/>
      <!-- includes mass of hokuyo link and imu -->
      <mass value="1.477574"/>
      <inertia ixx="0.0036053766" ixy="-1.5797E-06" ixz="-0.00089293" iyy="0.002080106" iyz="-6.8415E-07" izz="0.001782985"/>
    </inertial>
    <visual>
      <origin rpy="0 0 0" xyz="-0.0503 0 -0.00195"/>
      <geometry>
        <box size="0.1311 0.12 0.0591"/>
      </geometry>
    </visual>
    <collision>
      <origin rpy="0 0 0" xyz="-0.0503 0 -0.00195"/>
      <geometry>
        <box size="0.1311 0.12 0.0591"/>
      </geometry>
    </collision>
    <visual>
      <origin rpy="0 0 0" xyz="-0.093 0 0.0868"/>
      <geometry>
        <box size="0.0468 0.12 0.1184"/>
      </geometry>
    </visual>
    <collision>
      <origin rpy="0 0 0" xyz="-0.093 0 0.0868"/>
      <geometry>
        <box size="0.0468 0.12 0.1184"/>
      </geometry>
    </collision>
  </link>
</robot>
